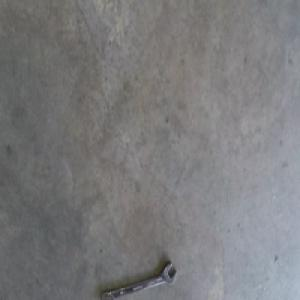Wrench: (102, 260, 175, 299)
